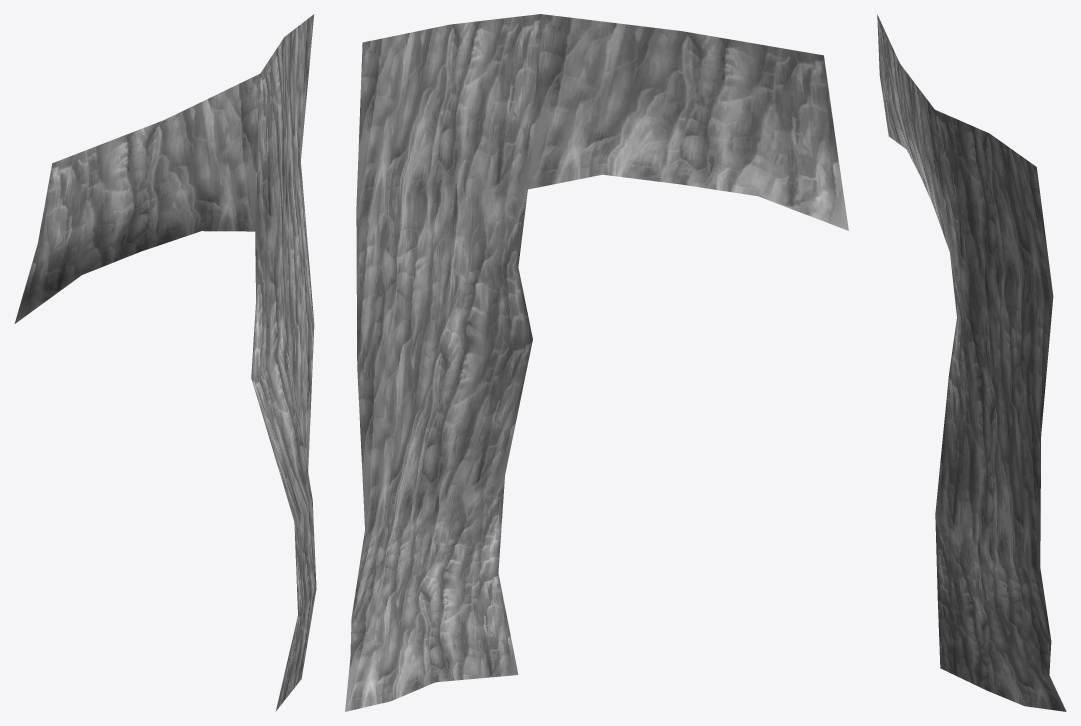
Rendered from SWORDLIGHT20_PS-AREA03_172.fbx.
The picture shows the model from 3 angles, left to right: view 1: azimuth 30°, elevation 25°; view 2: azimuth 150°, elevation 25°; view 3: azimuth 270°, elevation 25°; orthographic projection. The views are drawn at different scales.
Parts seen in each view (by area): view 1: SWORDLIGHT20_PS-AREA03_172; view 2: SWORDLIGHT20_PS-AREA03_172; view 3: SWORDLIGHT20_PS-AREA03_172.
Part boxes in pixels (bbox=[...]): SWORDLIGHT20_PS-AREA03_172: bbox=[14, 14, 316, 711]; SWORDLIGHT20_PS-AREA03_172: bbox=[345, 14, 848, 711]; SWORDLIGHT20_PS-AREA03_172: bbox=[877, 14, 1066, 711].
Bounding box in the file's own units: 127659 × 203848 × 62760.
Materials: 1 (1 with a texture image).
